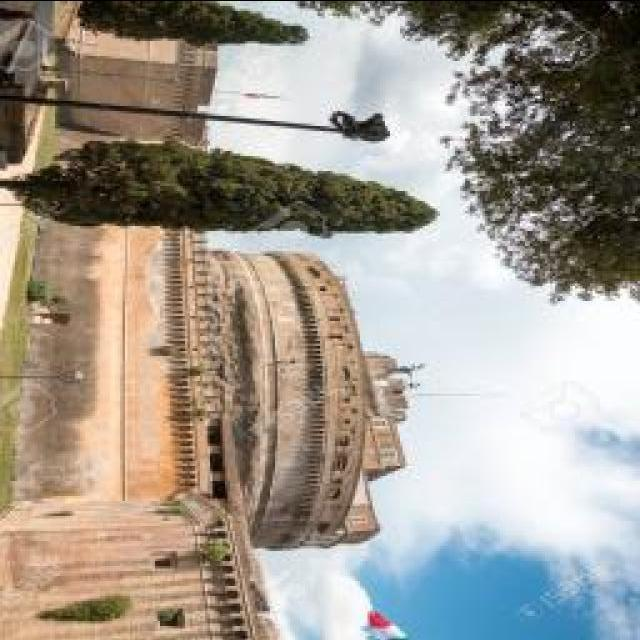dampness: (35, 214, 114, 489), (64, 40, 194, 141), (67, 19, 203, 75), (0, 182, 39, 375), (144, 230, 174, 346)
vegetation: (289, 1, 637, 308), (1, 137, 439, 237), (75, 0, 309, 47), (39, 594, 131, 622), (199, 537, 232, 565)
